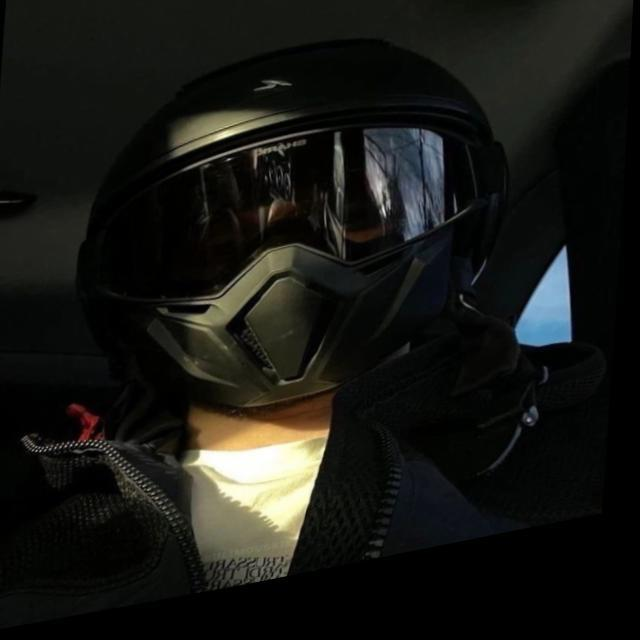Helmet: (58, 23, 520, 423)
